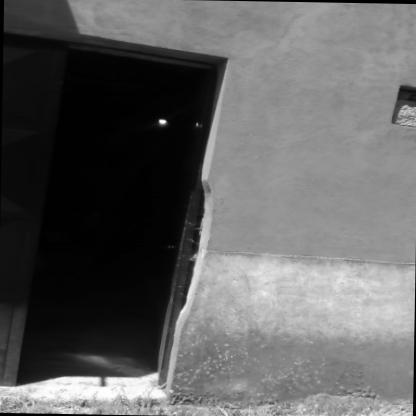open: (0, 36, 241, 402)
